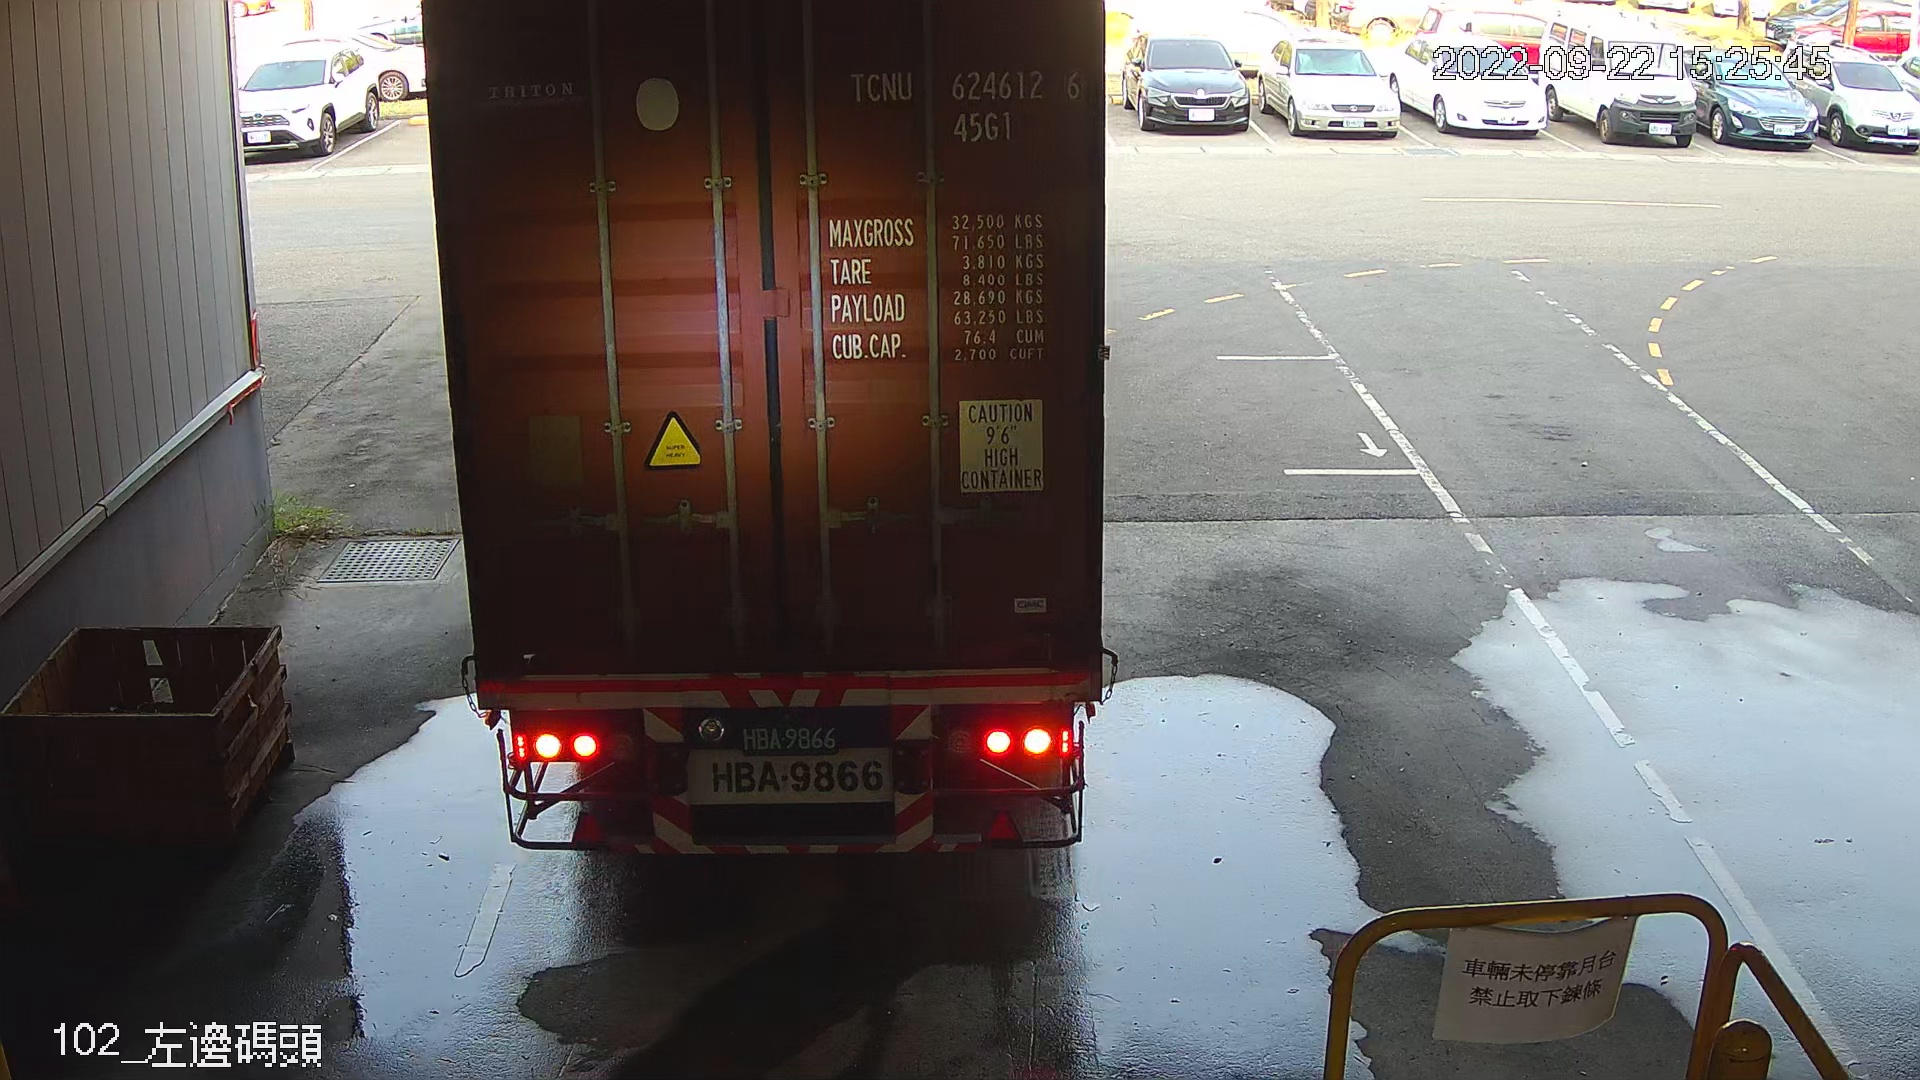container: (837, 58, 1089, 152)
